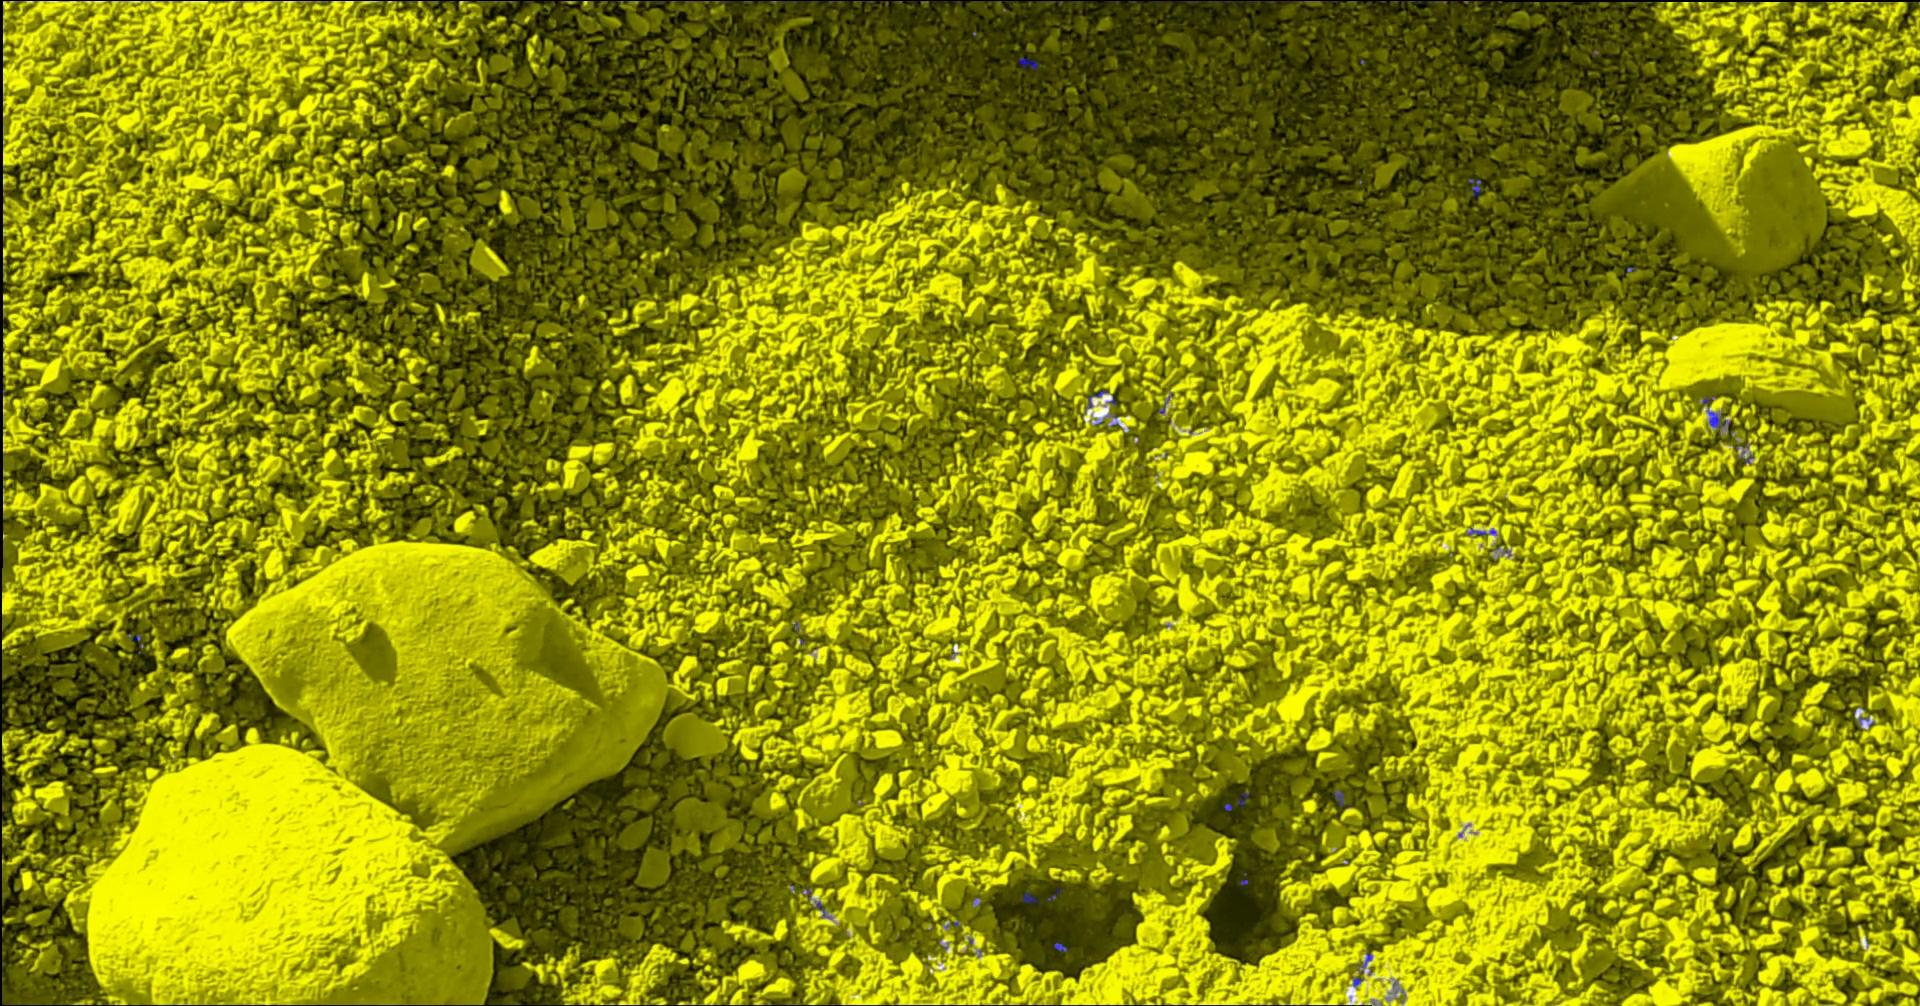ant: (1702, 395, 1730, 428), (126, 633, 143, 654), (1018, 57, 1037, 70), (1468, 178, 1481, 197), (1021, 889, 1037, 903), (1333, 789, 1343, 807), (670, 0, 726, 1)
